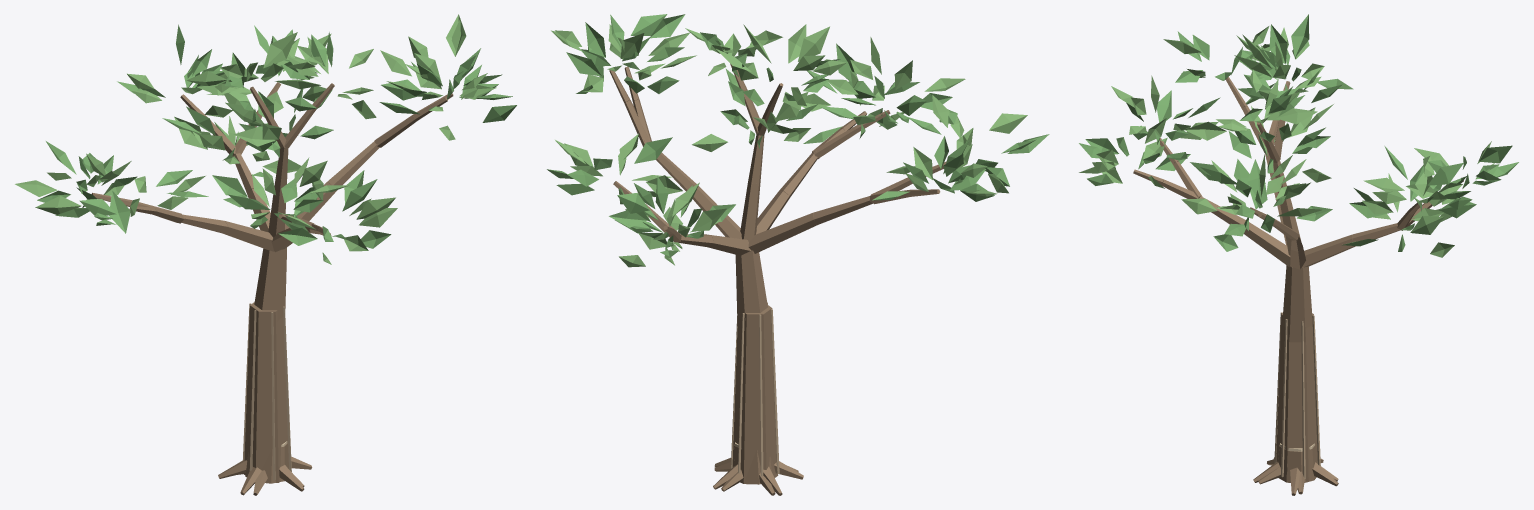
Rendered from plant-kouzo-a_lod1.glb.
3 renders of one model, left to right at view 1: azimuth 30°, elevation 25°; view 2: azimuth 150°, elevation 25°; view 3: azimuth 270°, elevation 25°, orthographic. The views are drawn at different scales.
Visible parts, largest first — view 1: plant-kouzo-a_standing_bark, plant-kouzo-a_standing_kouzoLeaf, plant-kouzo-a_standing_leafA, plant-kouzo-a_standing_barkLight, plant-kouzo-a_stump_bark; view 2: plant-kouzo-a_standing_bark, plant-kouzo-a_standing_kouzoLeaf, plant-kouzo-a_standing_leafA, plant-kouzo-a_standing_barkLight, plant-kouzo-a_stump_bark; view 3: plant-kouzo-a_standing_leafA, plant-kouzo-a_standing_bark, plant-kouzo-a_standing_kouzoLeaf, plant-kouzo-a_standing_barkLight, plant-kouzo-a_stump_bark.
Boxes of the visible parts, box(x1,y1,x2,y2) form: plant-kouzo-a_standing_bark: box(91, 82, 453, 495); plant-kouzo-a_standing_kouzoLeaf: box(15, 14, 496, 264); plant-kouzo-a_standing_leafA: box(37, 24, 516, 248); plant-kouzo-a_standing_barkLight: box(243, 303, 291, 480); plant-kouzo-a_stump_bark: box(237, 443, 304, 495); plant-kouzo-a_standing_bark: box(609, 63, 946, 495); plant-kouzo-a_standing_kouzoLeaf: box(551, 24, 1027, 267); plant-kouzo-a_standing_leafA: box(547, 14, 1049, 256); plant-kouzo-a_standing_barkLight: box(730, 302, 779, 476); plant-kouzo-a_stump_bark: box(714, 444, 798, 495); plant-kouzo-a_standing_leafA: box(1079, 14, 1518, 251); plant-kouzo-a_standing_bark: box(1133, 76, 1463, 495); plant-kouzo-a_standing_kouzoLeaf: box(1079, 26, 1494, 257); plant-kouzo-a_standing_barkLight: box(1274, 312, 1320, 478); plant-kouzo-a_stump_bark: box(1258, 444, 1338, 494).
Bounding box in the file's own units: 5.46 × 5.11 × 4.84.
